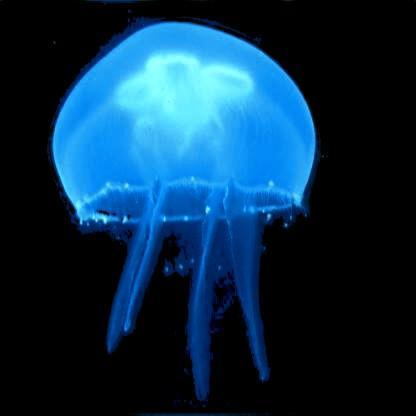Speckle: (50, 19, 316, 403)
